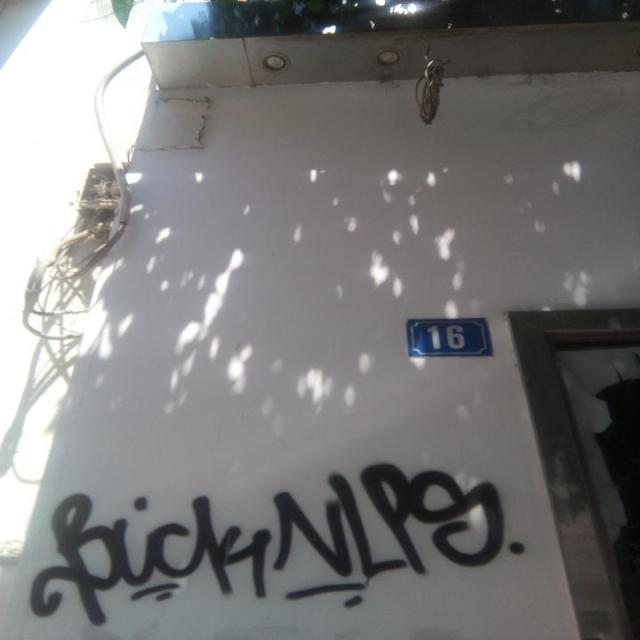nonspitting: (29, 463, 526, 624)
